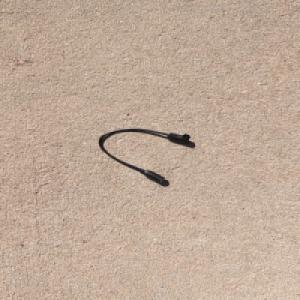Wire: (97, 127, 191, 183)
